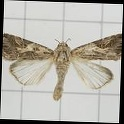Spodoptera litura: (2, 31, 121, 102)
